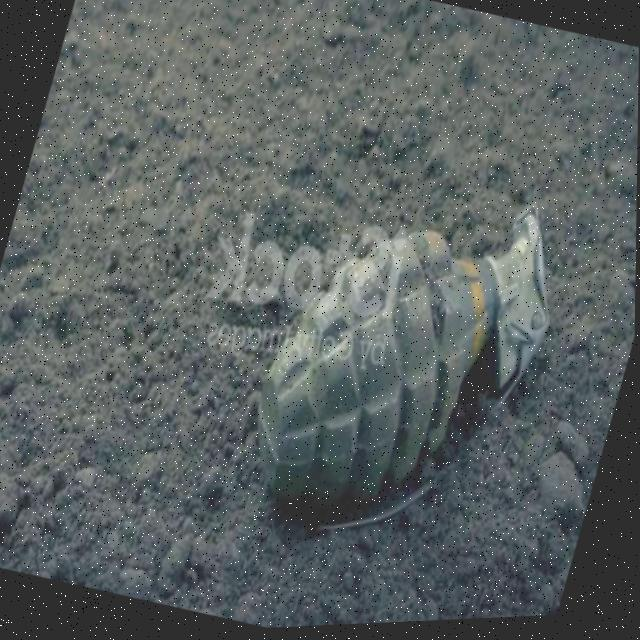grenade: (202, 143, 606, 603)
